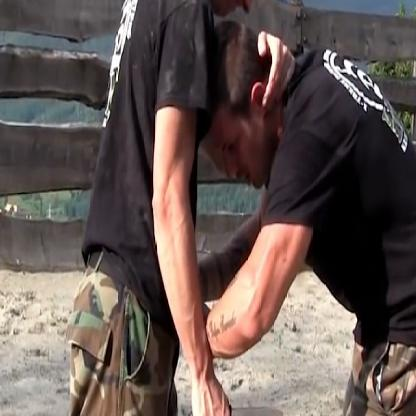knife: (182, 382, 290, 415)
